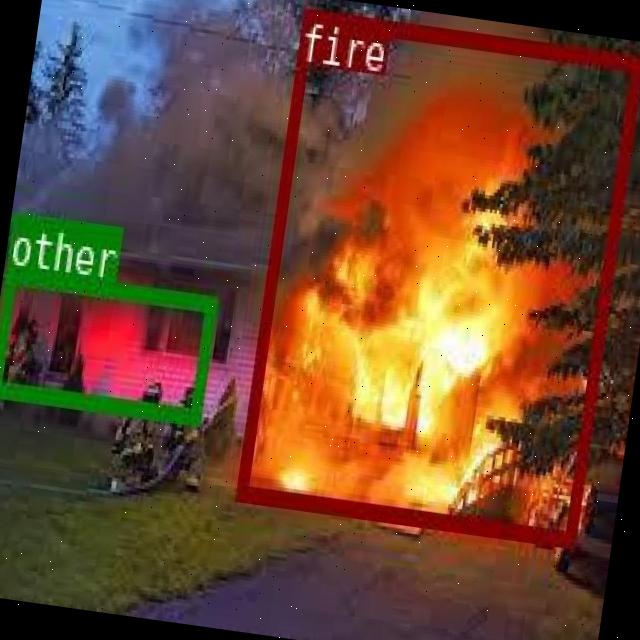fire: (235, 7, 640, 545)
